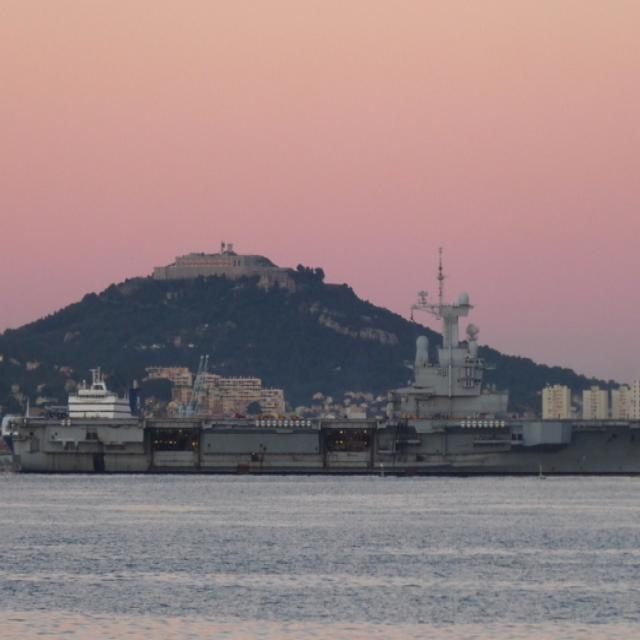Portanaves: (1, 240, 640, 483)
